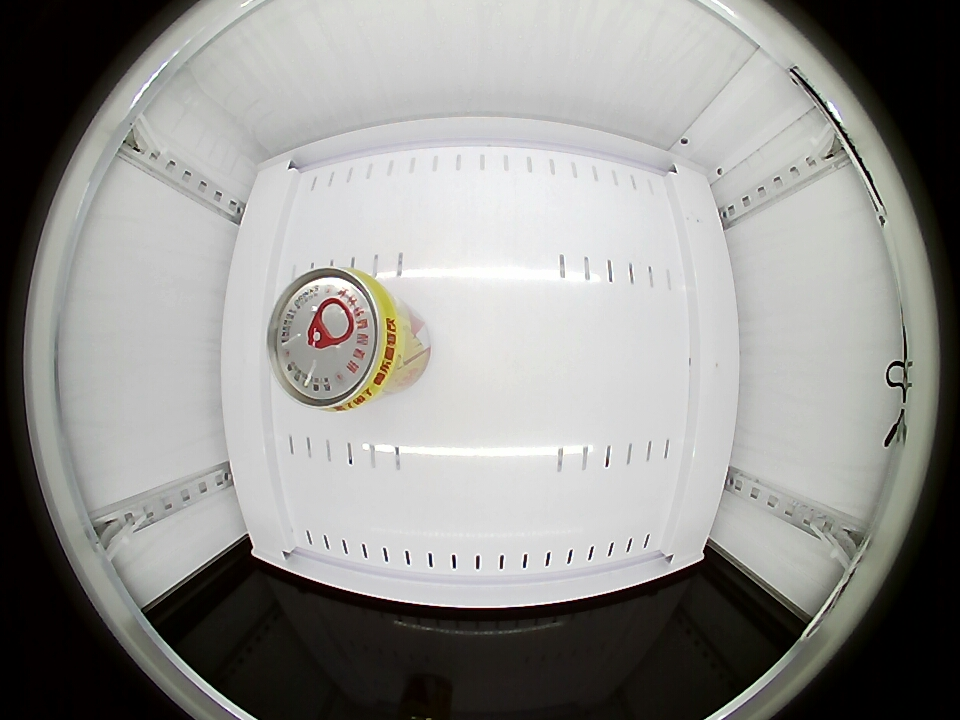dongpeng: (268, 265, 406, 412)
